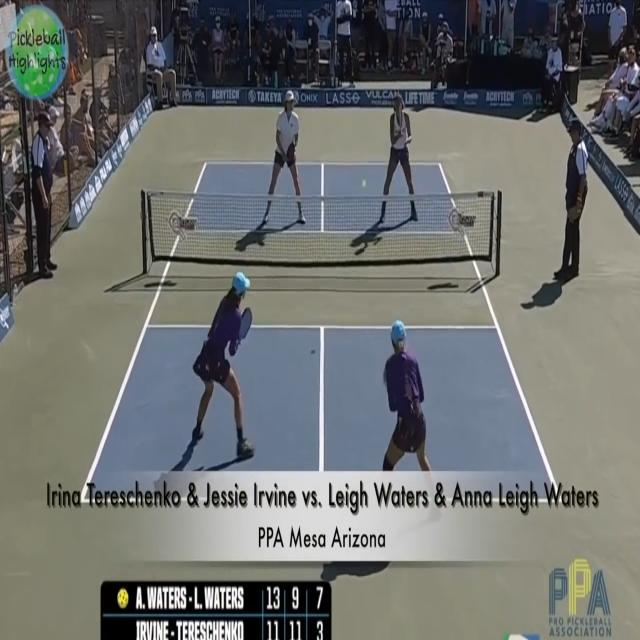Court: (83, 158, 564, 503)
ball: (358, 169, 373, 194)
